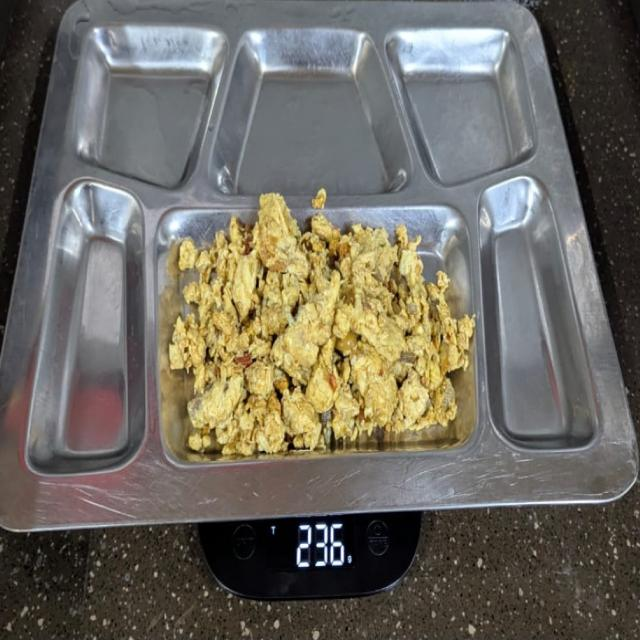Egg Bhurji: (190, 236, 451, 451)
